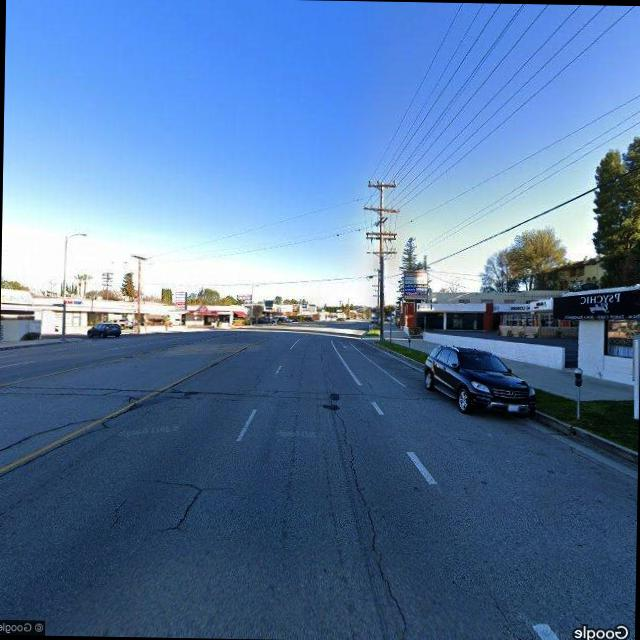pothole: (329, 406, 414, 634), (166, 484, 205, 533), (110, 496, 129, 526)
